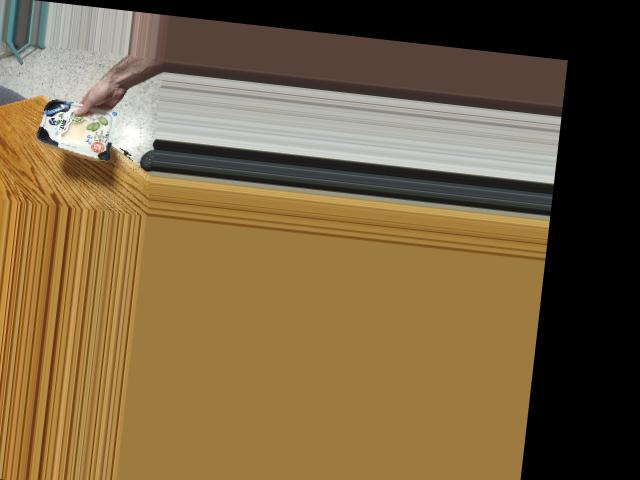cheese: (37, 100, 112, 152)
